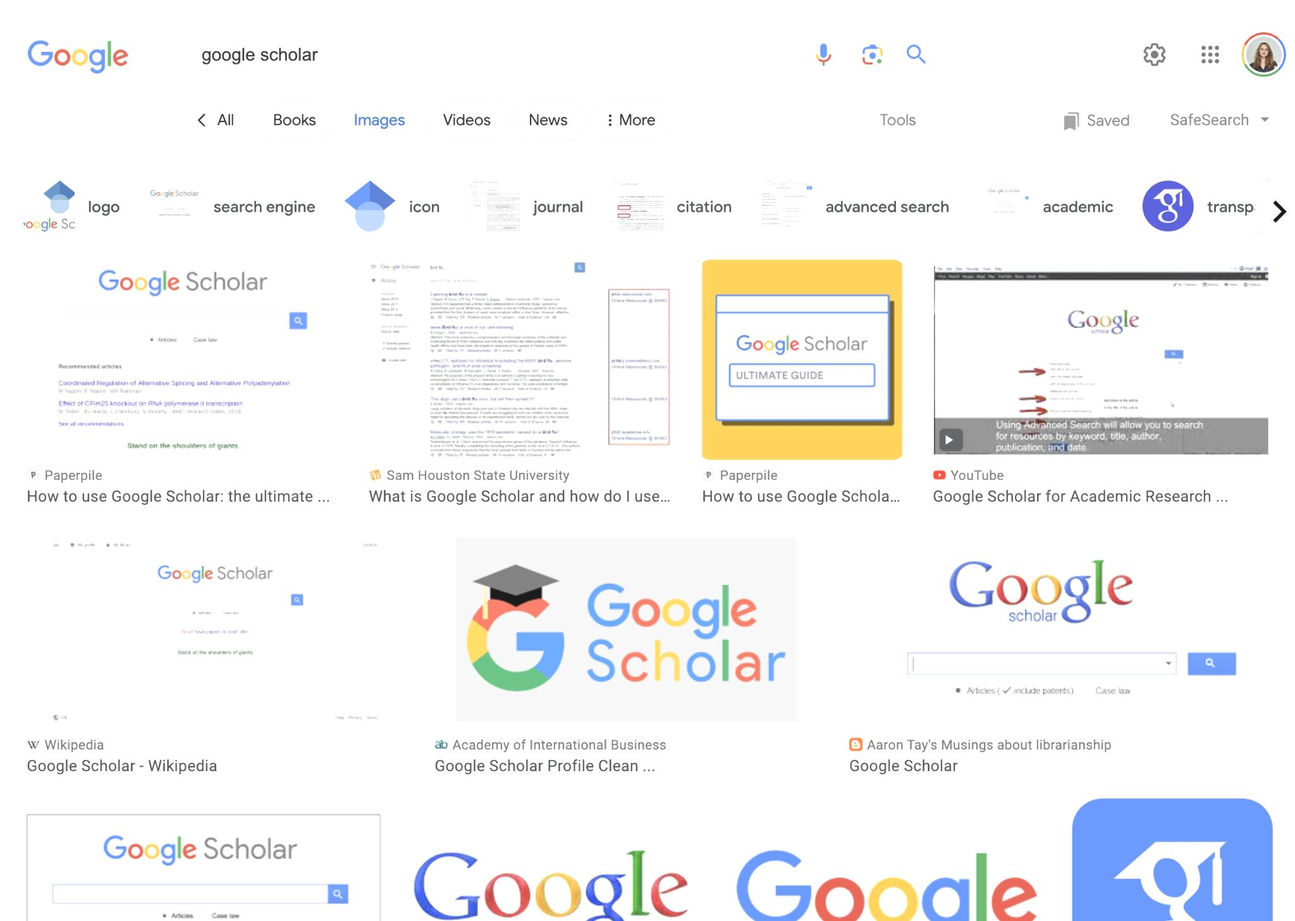webelement: (21, 259, 1271, 921), (0, 0, 1294, 82), (21, 178, 1295, 231), (21, 178, 1271, 231), (870, 545, 1245, 713), (933, 265, 1267, 453), (47, 535, 381, 723), (455, 537, 796, 721), (26, 259, 337, 459), (368, 259, 671, 459), (0, 28, 948, 79), (701, 259, 901, 459), (21, 811, 383, 921), (405, 798, 697, 921), (720, 836, 1048, 921), (1071, 798, 1271, 921), (201, 35, 796, 72), (844, 735, 1272, 775), (429, 735, 821, 775), (21, 735, 406, 775), (928, 466, 1272, 505), (21, 466, 341, 505), (363, 466, 674, 505), (759, 178, 967, 231), (147, 178, 333, 231), (976, 178, 1131, 231), (1141, 178, 1295, 231), (697, 466, 905, 505), (849, 756, 1267, 775), (610, 178, 750, 231), (434, 756, 817, 775), (467, 178, 602, 231), (26, 756, 402, 775), (932, 486, 1267, 505), (21, 178, 138, 231), (342, 178, 458, 231), (26, 486, 336, 505), (368, 486, 669, 505), (1158, 97, 1280, 142), (11, 66, 129, 110), (1049, 97, 1140, 142), (701, 486, 900, 505), (339, 97, 421, 142), (590, 97, 671, 142), (428, 97, 507, 142), (257, 97, 332, 142), (177, 97, 250, 142), (512, 97, 583, 142), (1254, 171, 1294, 250), (867, 97, 926, 142), (22, 179, 74, 230), (760, 179, 812, 230), (148, 179, 199, 230), (343, 179, 394, 230), (468, 179, 519, 230), (611, 179, 662, 230), (977, 179, 1028, 230), (1141, 179, 1192, 230), (825, 196, 948, 216), (845, 29, 894, 78), (898, 29, 947, 78), (796, 29, 844, 78), (213, 196, 314, 216), (1131, 32, 1175, 76), (1187, 32, 1231, 76), (1241, 32, 1285, 76), (1206, 196, 1290, 216), (1169, 110, 1248, 128), (1042, 196, 1112, 216), (675, 196, 731, 216), (533, 196, 583, 216), (87, 196, 119, 216), (408, 196, 439, 216), (433, 737, 447, 751), (848, 737, 862, 751), (943, 432, 957, 445), (26, 737, 39, 751), (26, 468, 39, 481), (368, 468, 381, 481), (701, 468, 714, 481), (932, 468, 945, 481)
